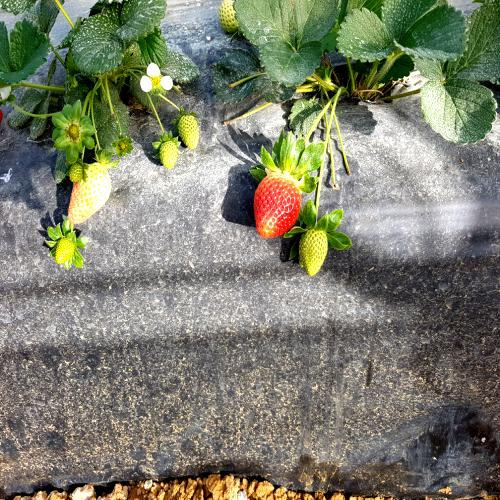ripe: (256, 156, 299, 245)
